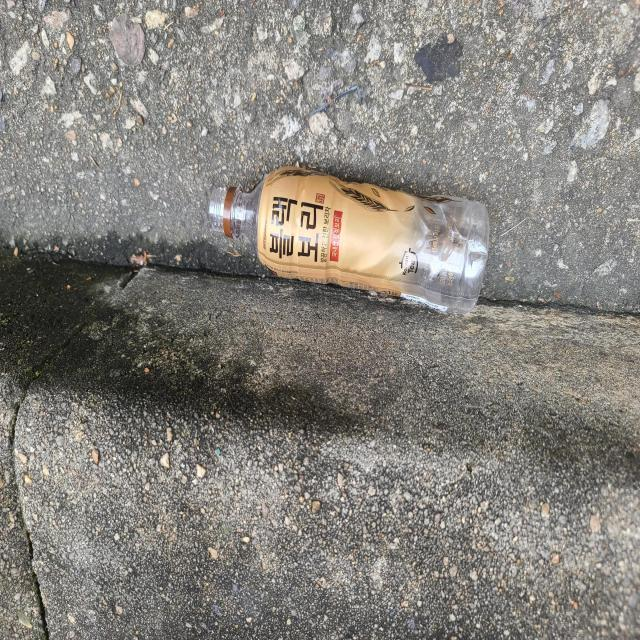plastic: (208, 166, 489, 313)
